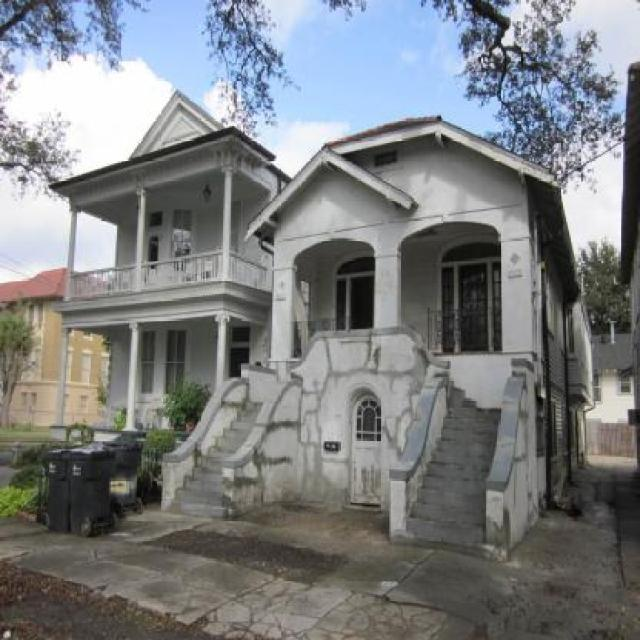stair: (404, 406, 504, 546), (168, 397, 266, 514)
